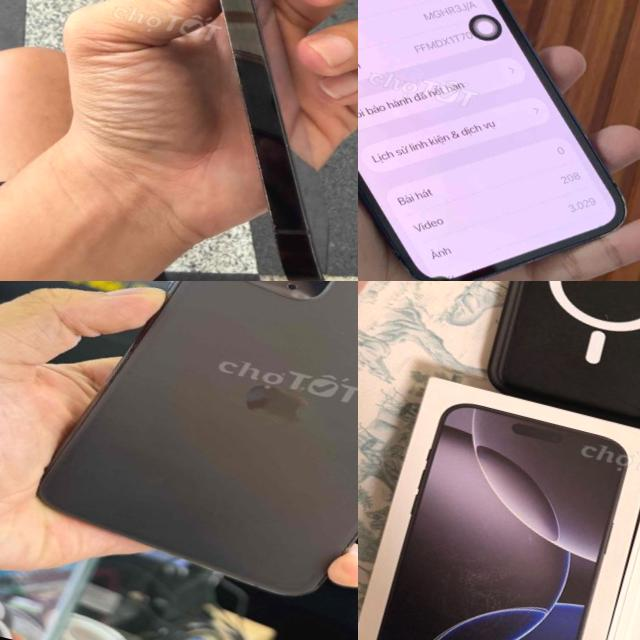gen_11: (22, 281, 358, 639)
gen_12_13: (358, 0, 640, 281)
gen_14: (55, 0, 358, 281)
screen_defect: (405, 255, 469, 281)
